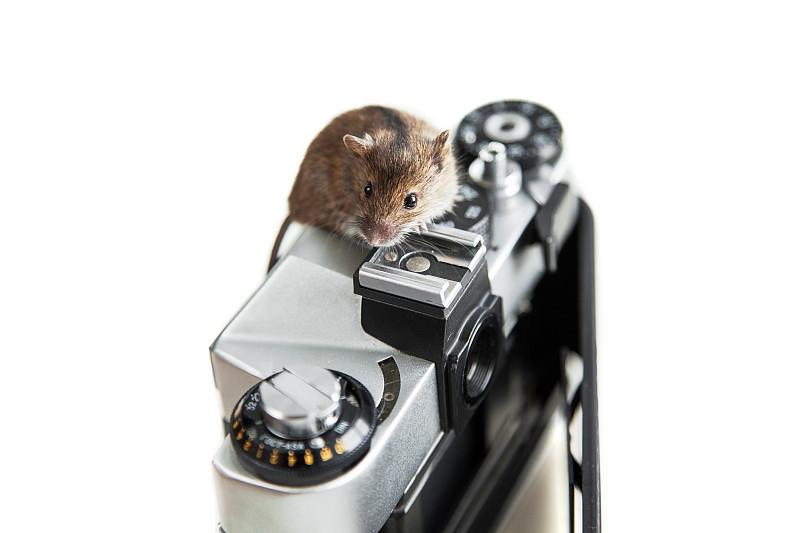rat: (253, 84, 475, 269)
